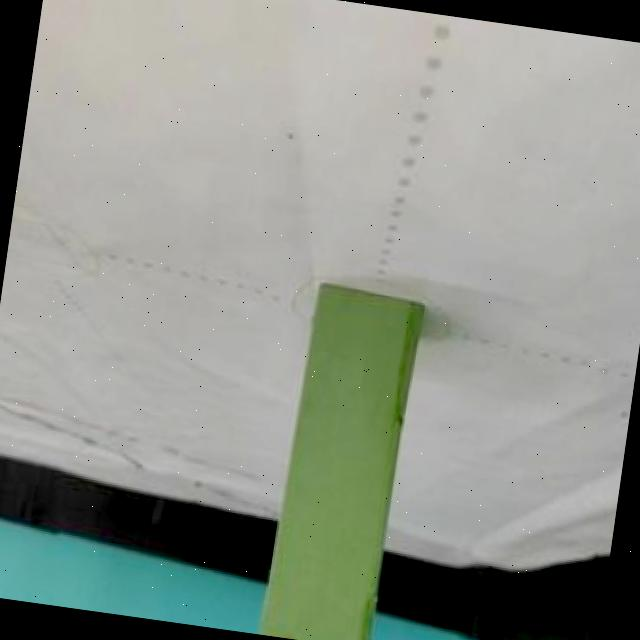greenbox: (258, 279, 428, 640)
